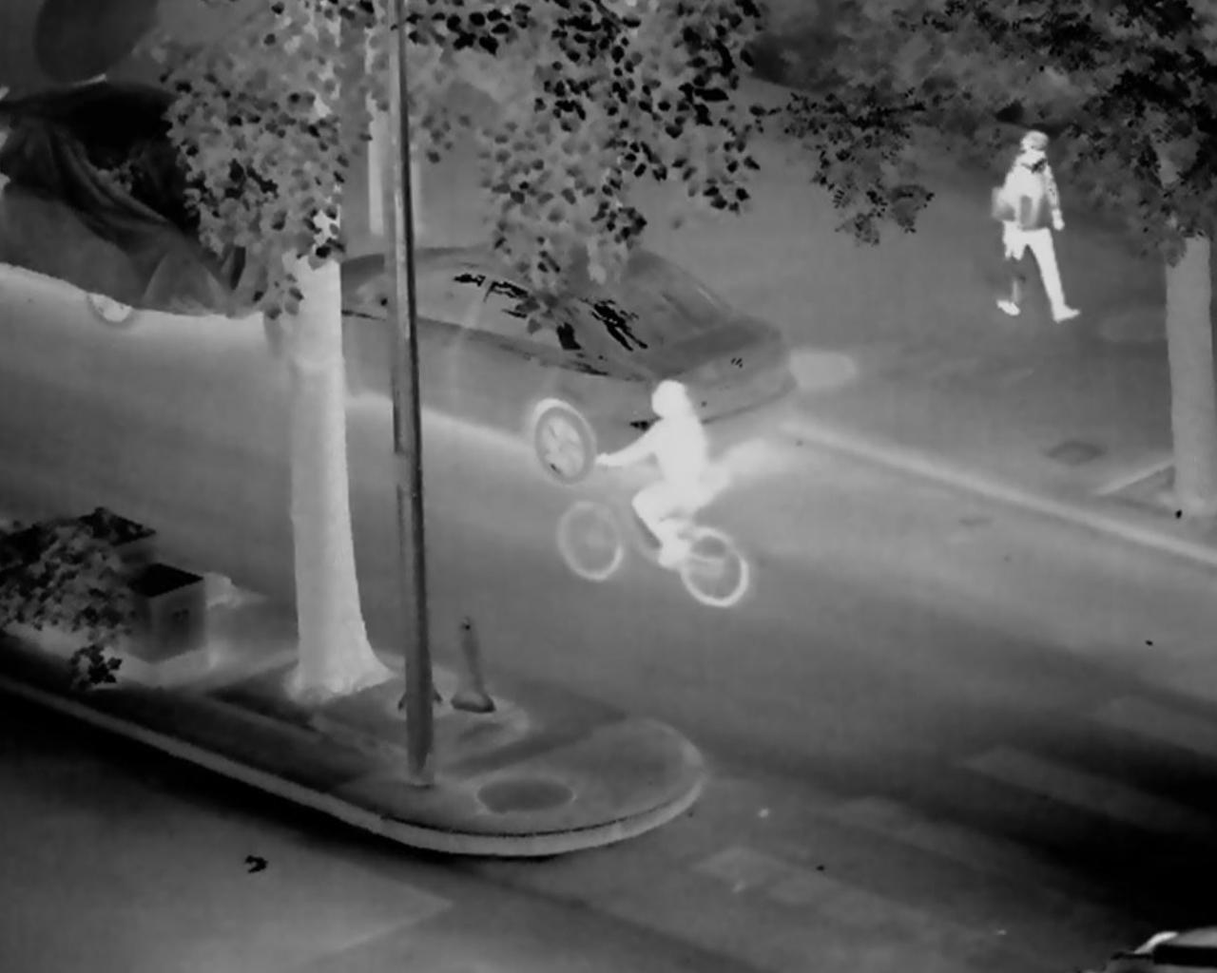person: (564, 367, 734, 580), (977, 121, 1082, 329)
